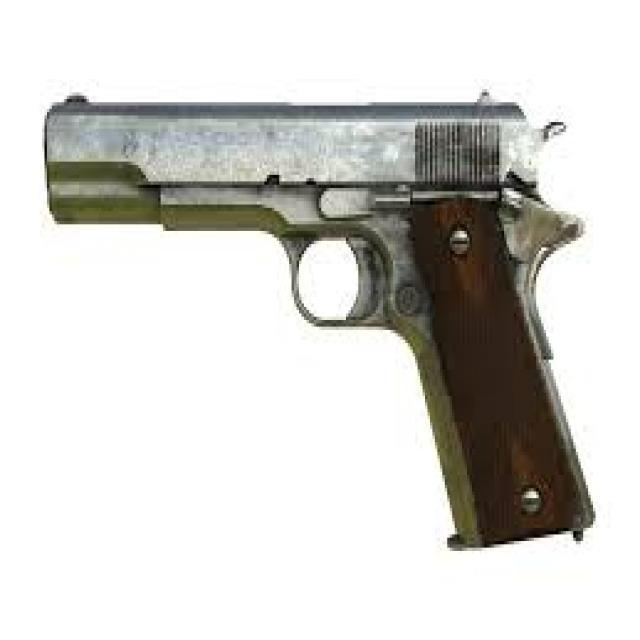semi automatic: (35, 80, 600, 567)
